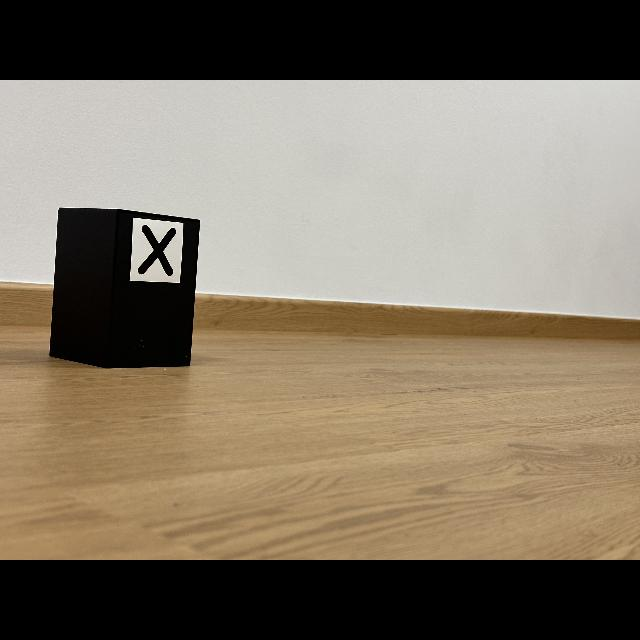X: (138, 225, 176, 276)
